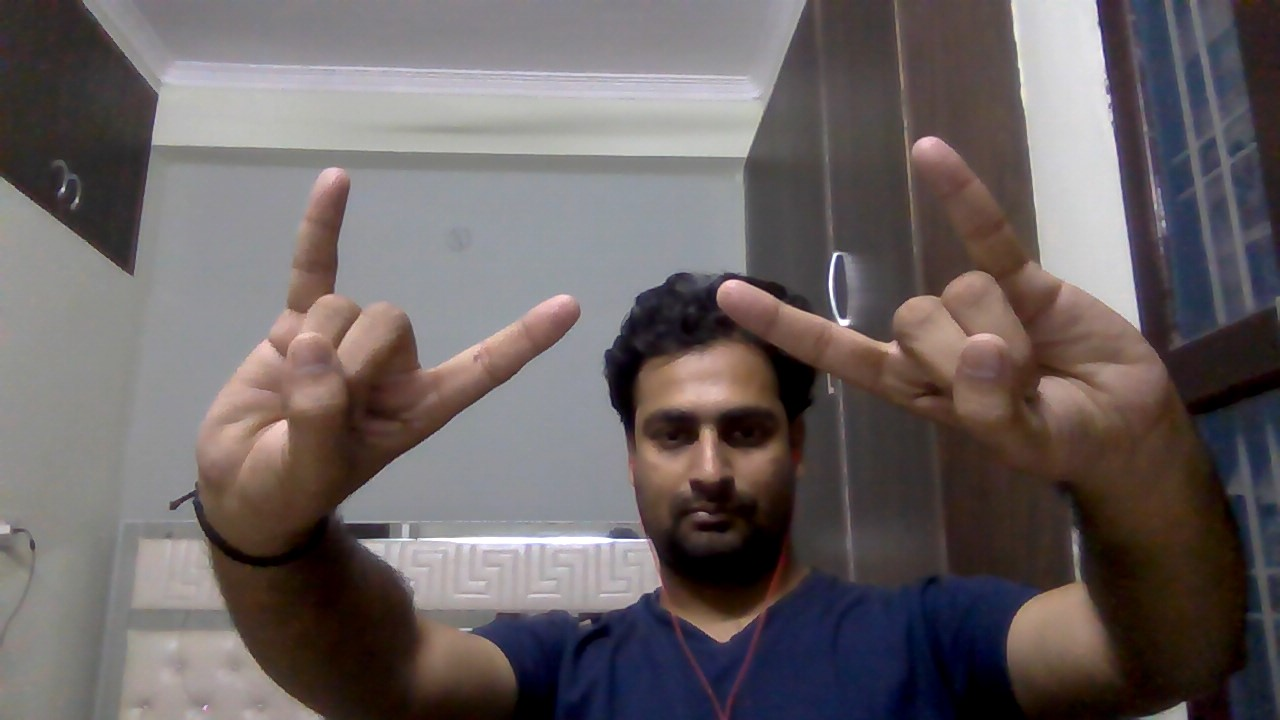Select All: (707, 119, 1188, 469), (187, 152, 583, 547)
